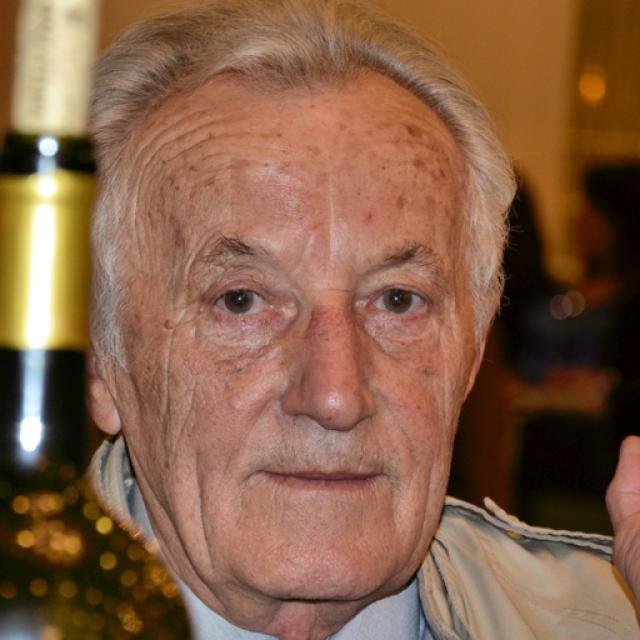neutral: (120, 102, 482, 602)
